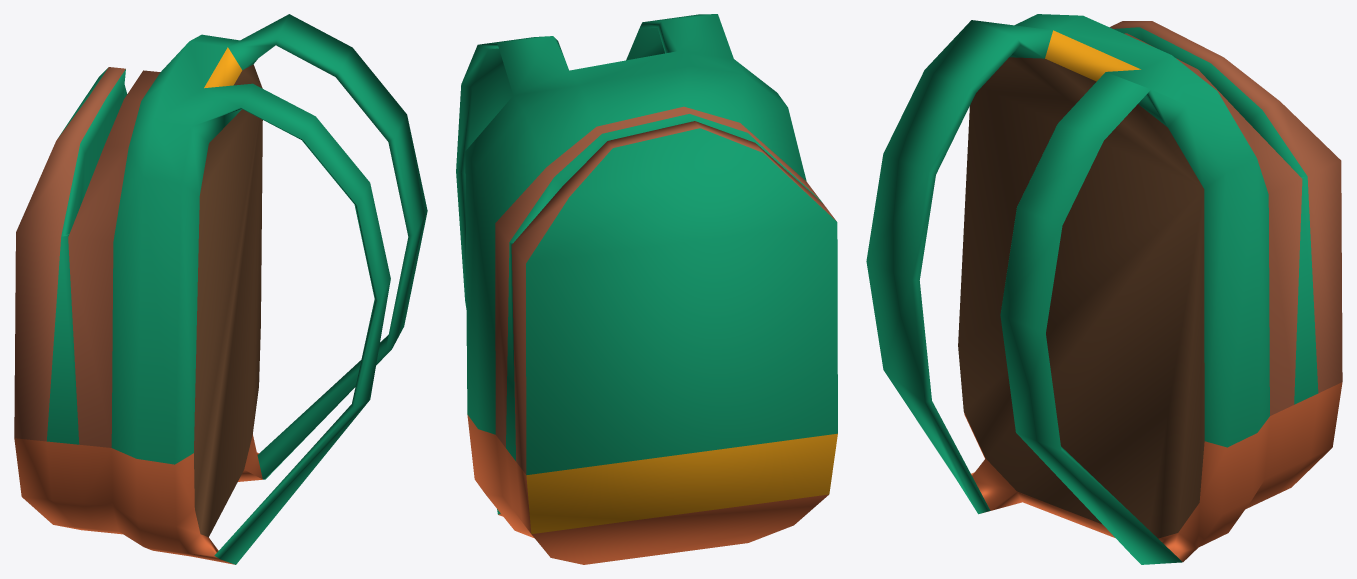
The model's file is bagChestClosed.obj.
The picture shows the model from 3 angles, left to right: view 1: azimuth 30°, elevation 25°; view 2: azimuth 150°, elevation 25°; view 3: azimuth 270°, elevation 25°; orthographic projection. The views are drawn at different scales.
Visible parts, largest first — view 1: bagChestClosed_Cube_Cube.003; view 2: bagChestClosed_Cube_Cube.003; view 3: bagChestClosed_Cube_Cube.003.
Boxes of the visible parts, bbox=[...] form: bagChestClosed_Cube_Cube.003: bbox=[14, 14, 427, 564]; bagChestClosed_Cube_Cube.003: bbox=[456, 14, 837, 564]; bagChestClosed_Cube_Cube.003: bbox=[866, 14, 1342, 564].
Bounding box in the file's own units: 20.09 × 22.46 × 19.54.
1 material, 1 textured.
